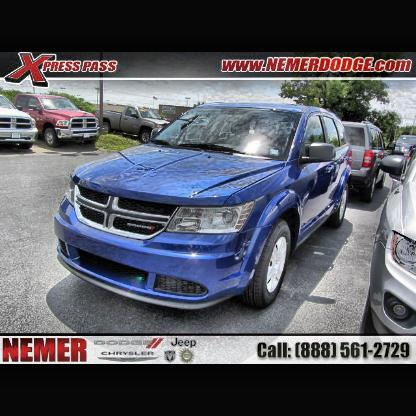Dodge Journey SUV 2012: (58, 105, 352, 311)
